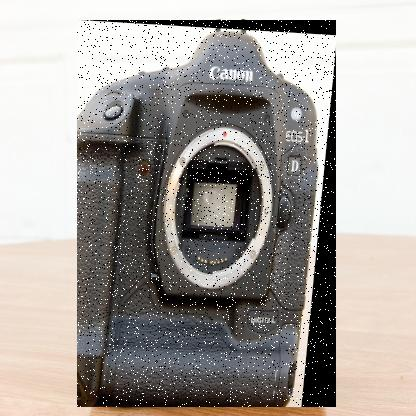Camera: (78, 21, 338, 409)
